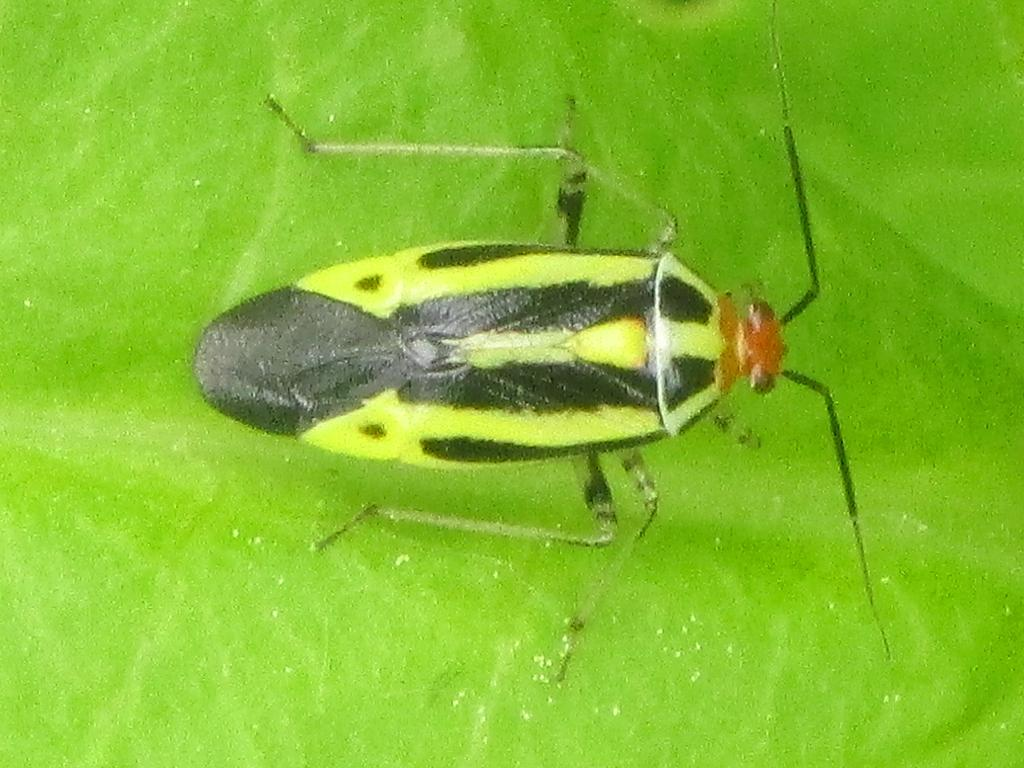plant_bugs: (58, 0, 1024, 733)
